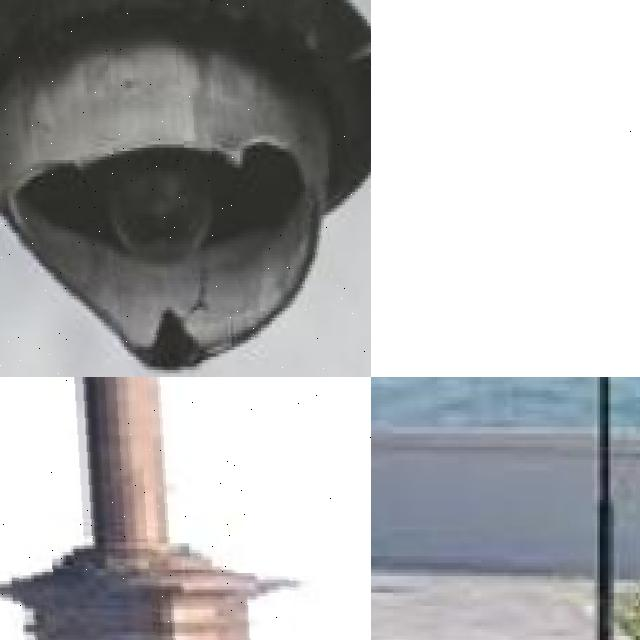street light: (0, 0, 371, 377), (0, 377, 371, 640), (492, 377, 640, 640), (577, 377, 640, 640)
